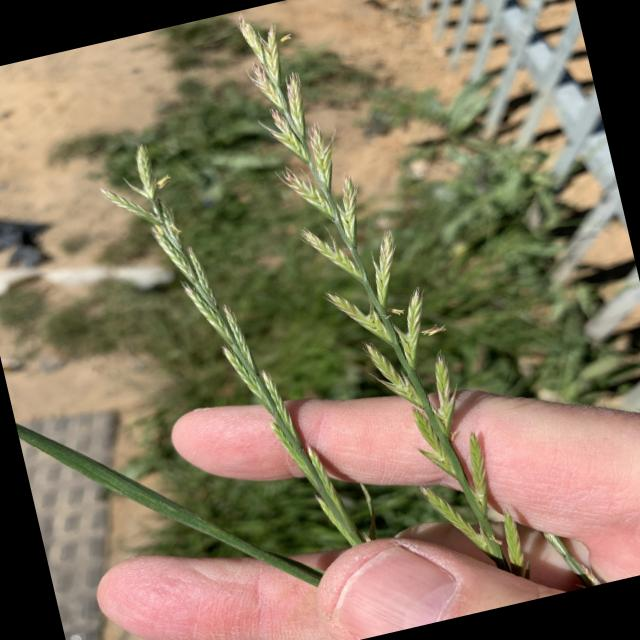Lolium: (64, 0, 595, 640)
